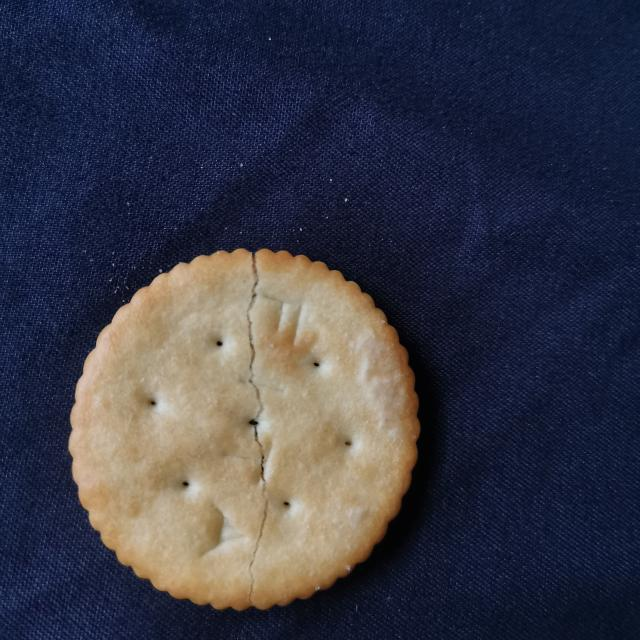Fracture: (237, 240, 272, 607)
